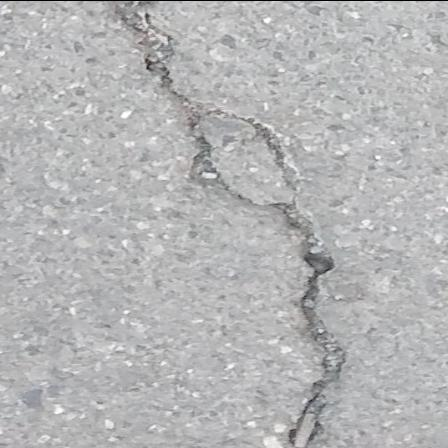crack: (106, 0, 398, 448)
